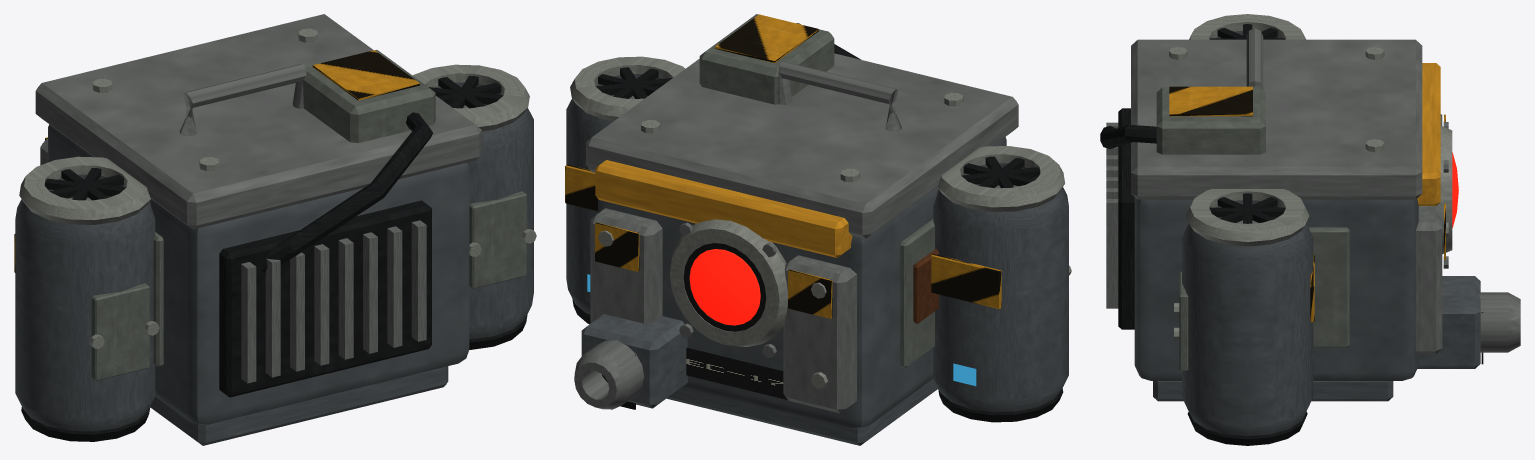
File: industrial_drone.glb
3 views of the same model, side by side, from view 1: azimuth 30°, elevation 25°; view 2: azimuth 150°, elevation 25°; view 3: azimuth 270°, elevation 25° (orthographic). The views are drawn at different scales.
Visible parts, largest first — view 1: ChassisMesh, PropulsionLeftMesh, PropulsionRightMesh; view 2: ChassisMesh, PropulsionLeftMesh, OpticsMesh, PropulsionRightMesh, WeaponMesh; view 3: ChassisMesh, PropulsionRightMesh, WeaponMesh, PropulsionLeftMesh, OpticsMesh.
Boxes of the visible parts, left/top/right/bottom form: ChassisMesh: left=35, top=14, right=481, bottom=445; PropulsionLeftMesh: left=14, top=156, right=159, bottom=441; PropulsionRightMesh: left=413, top=64, right=536, bottom=349; ChassisMesh: left=586, top=14, right=1018, bottom=445; PropulsionLeftMesh: left=931, top=146, right=1071, bottom=422; OpticsMesh: left=670, top=219, right=787, bottom=358; PropulsionRightMesh: left=565, top=56, right=685, bottom=324; WeaponMesh: left=574, top=314, right=687, bottom=409; ChassisMesh: left=1100, top=28, right=1448, bottom=401; PropulsionRightMesh: left=1174, top=189, right=1314, bottom=445; WeaponMesh: left=1417, top=276, right=1520, bottom=368; PropulsionLeftMesh: left=1189, top=14, right=1305, bottom=39; OpticsMesh: left=1440, top=122, right=1458, bottom=268.
Bounding box in the file's own units: 1.46 × 0.8522 × 1.15.
Materials: 3 (1 with a texture image).
